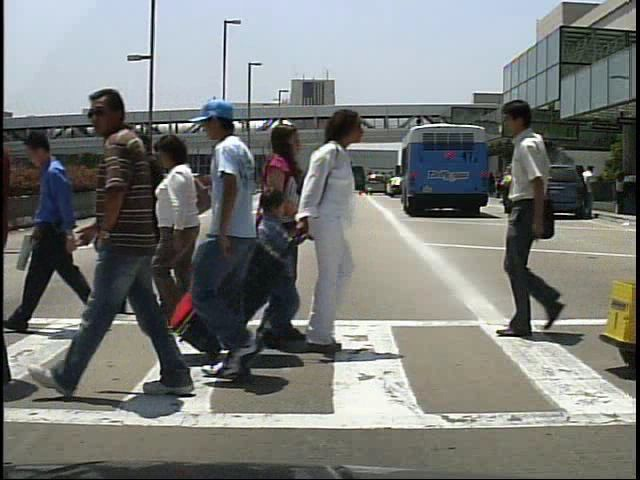person: (49, 84, 226, 411), (193, 105, 302, 388), (486, 92, 581, 339), (14, 122, 109, 337), (294, 104, 374, 358), (257, 123, 317, 360), (114, 130, 186, 322), (146, 133, 211, 327), (254, 181, 299, 353), (582, 164, 602, 218), (498, 166, 516, 219), (506, 165, 525, 215)
